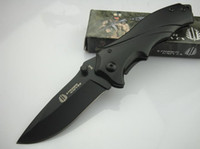knife: (13, 59, 115, 147)
